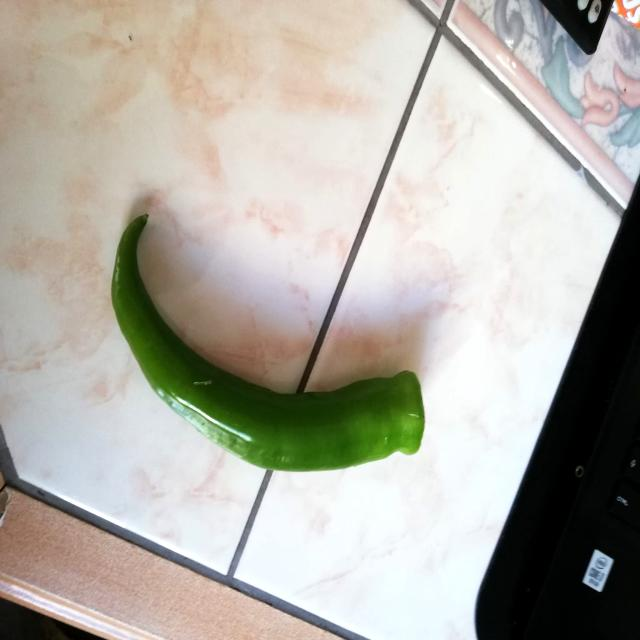green pepper: (106, 213, 430, 477)
